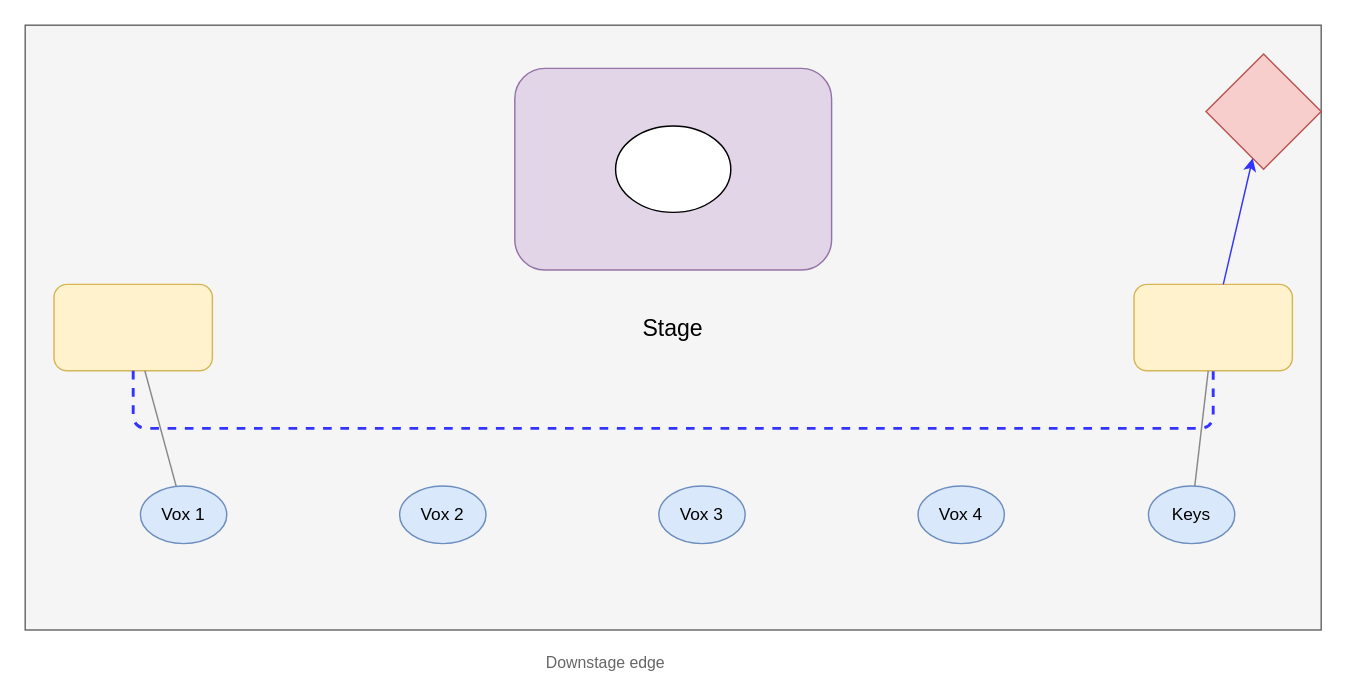
This 1346x698 diagram has some shape labels left out. Here are the shapes that lost their labels. From the top down, the centre of each, then its label:
the point at 1263,111: Monitor world
the point at 672,168: Kit
the point at 132,327: Stage box L Rio3224
the point at 1212,327: Stage box R Rio1608
